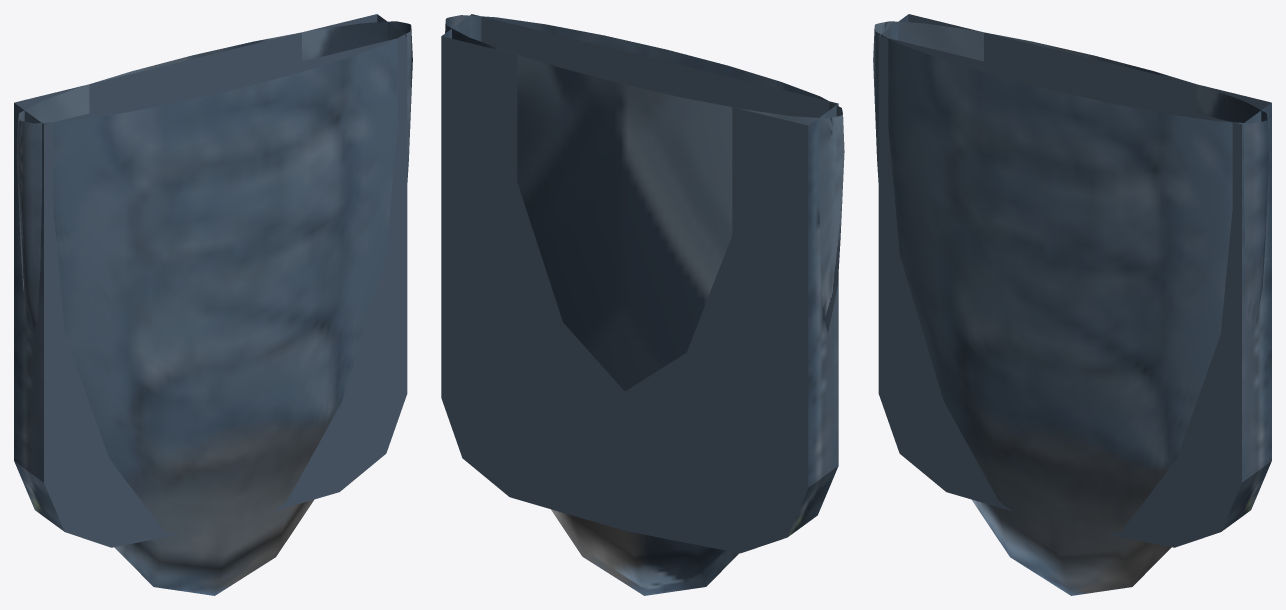
The model's file is section-3.obj.
The picture shows the model from 3 angles, left to right: view 1: azimuth 30°, elevation 25°; view 2: azimuth 150°, elevation 25°; view 3: azimuth 330°, elevation 25°; orthographic projection.
Size of the model in its own units: 0.7638 by 0.9646 by 0.1533.
1 material, 1 textured.
